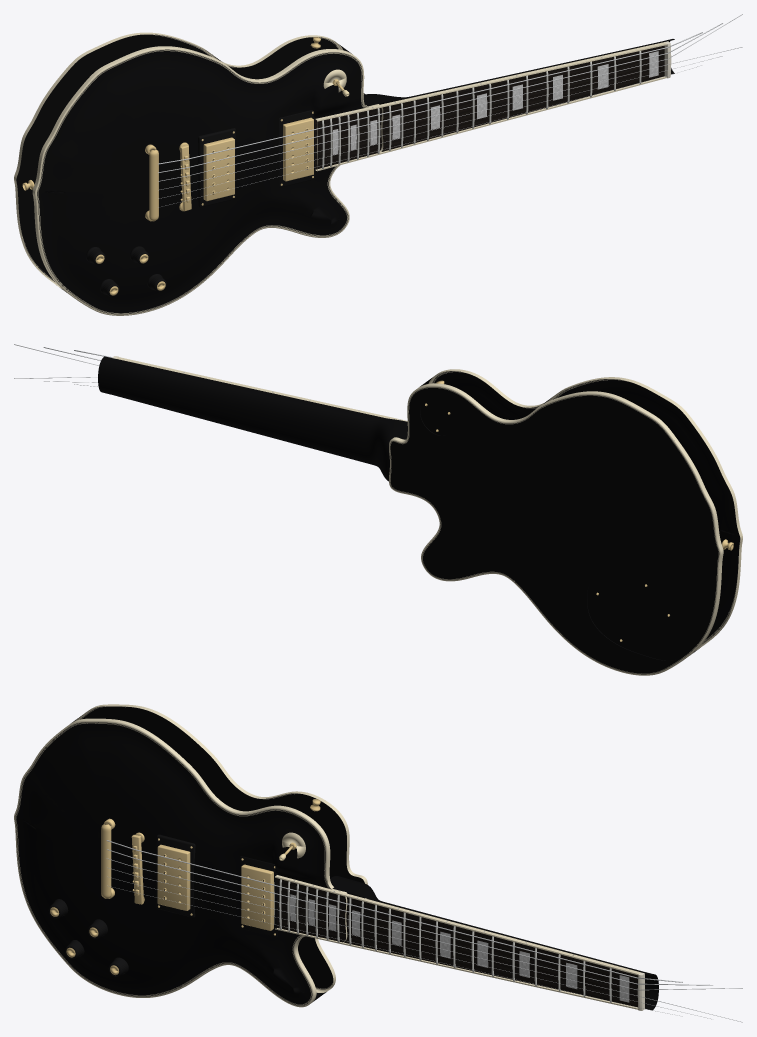
Rendered from lp-body.glb.
The picture shows the model from 3 angles, top to bottom: view 1: azimuth 30°, elevation 25°; view 2: azimuth 150°, elevation 25°; view 3: azimuth 330°, elevation 25°; orthographic projection. The views are drawn at different scales.
Parts seen in each view (by area): view 1: body_top, fretboard, body_back, body_side, pu_bridge_cover, pu_neck_cover, pu_bridge_ring, string1, neck, string2, pu_neck_ring, string3 (+4 smaller); view 2: body_back, neck, body_top, body_side, fretboard; view 3: body_top, fretboard, body_back, body_side, pu_bridge_cover, pu_neck_cover, neck, string1, pu_bridge_ring, string2, pu_neck_ring, tailpiece (+4 smaller).
Part boxes in pixels (left/top/right/bottom): body_top: left=35, top=48, right=383, bottom=315; fretboard: left=315, top=42, right=666, bottom=171; body_back: left=16, top=34, right=341, bottom=287; body_side: left=14, top=32, right=379, bottom=300; pu_bridge_cover: left=203, top=137, right=234, bottom=201; pu_neck_cover: left=283, top=117, right=313, bottom=181; pu_bridge_ring: left=198, top=128, right=235, bottom=207; string1: left=158, top=32, right=702, bottom=164; neck: left=356, top=39, right=674, bottom=109; string2: left=158, top=23, right=722, bottom=172; pu_neck_ring: left=279, top=110, right=314, bottom=187; string3: left=158, top=14, right=742, bottom=181; body_back: left=389, top=385, right=720, bottom=675; neck: left=98, top=356, right=407, bottom=481; body_top: left=430, top=371, right=740, bottom=649; body_side: left=392, top=369, right=742, bottom=655; fretboard: left=116, top=357, right=407, bottom=421; body_top: left=14, top=720, right=344, bottom=1007; fretboard: left=274, top=875, right=640, bottom=1009; body_back: left=76, top=706, right=364, bottom=991; body_side: left=69, top=704, right=367, bottom=1003; pu_bridge_cover: left=157, top=844, right=190, bottom=910; pu_neck_cover: left=241, top=864, right=273, bottom=930; neck: left=320, top=876, right=658, bottom=1010; string1: left=106, top=840, right=682, bottom=982; pu_bridge_ring: left=156, top=834, right=195, bottom=917; string2: left=106, top=849, right=713, bottom=985; pu_neck_ring: left=240, top=856, right=277, bottom=937; tailpiece: left=101, top=823, right=111, bottom=898.
Bounding box in the file's own units: 92.61 × 33.17 × 11.33.
Materials: 13 (2 with a texture image).
